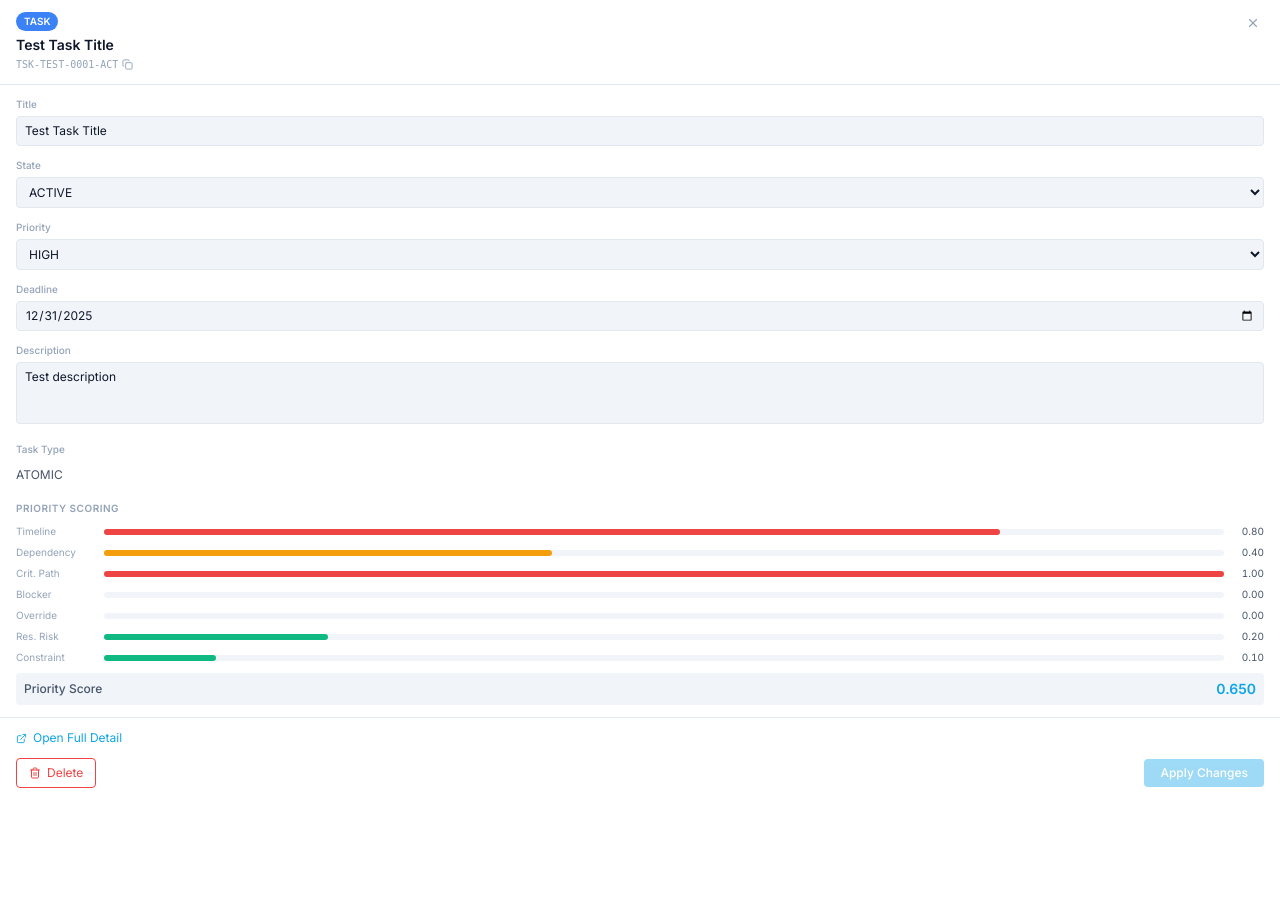
Test case: NodeInspector › Apply Changes button enables after editing title
Replace the text in the field with test id "inspector-title" with "New Title" at coordinates (640, 131), box [16,116,1264,146]
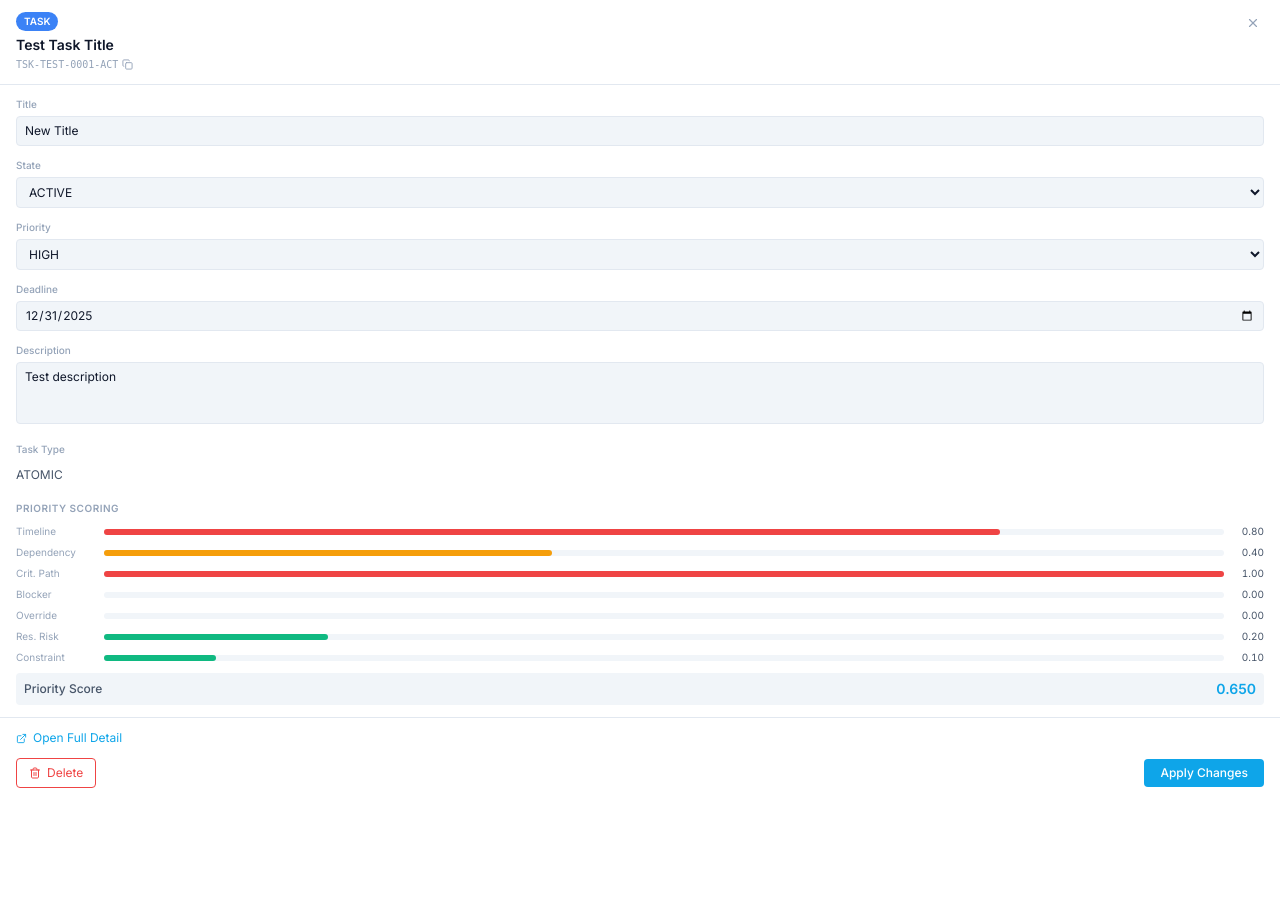
Expected: the button with test id "inspector-apply" is enabled, [1144,759,1264,787]
